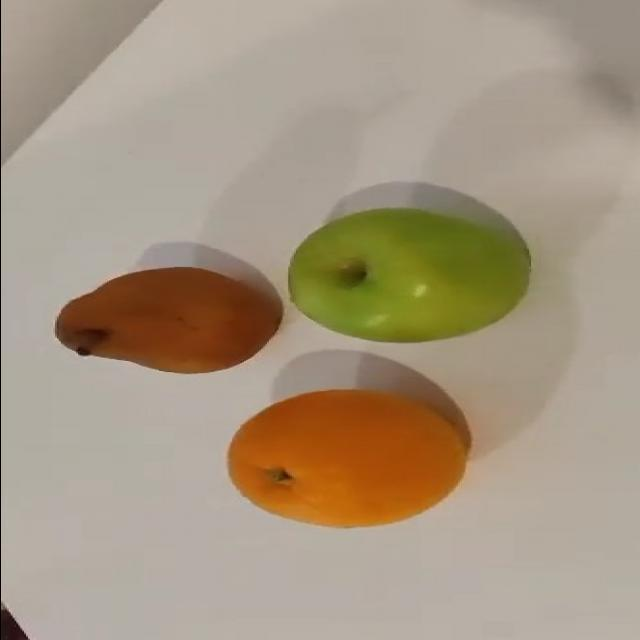Apple: (53, 265, 283, 374)
Banana: (287, 204, 531, 343)
Orange: (226, 386, 468, 528)
